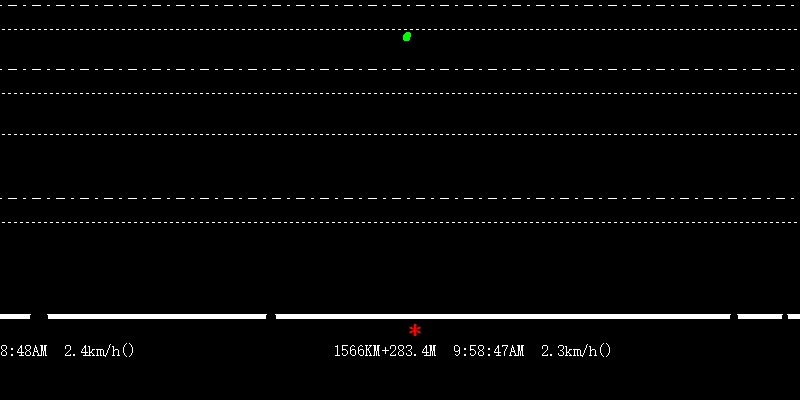face_down: (401, 24, 412, 46)
star: (409, 320, 423, 339)
